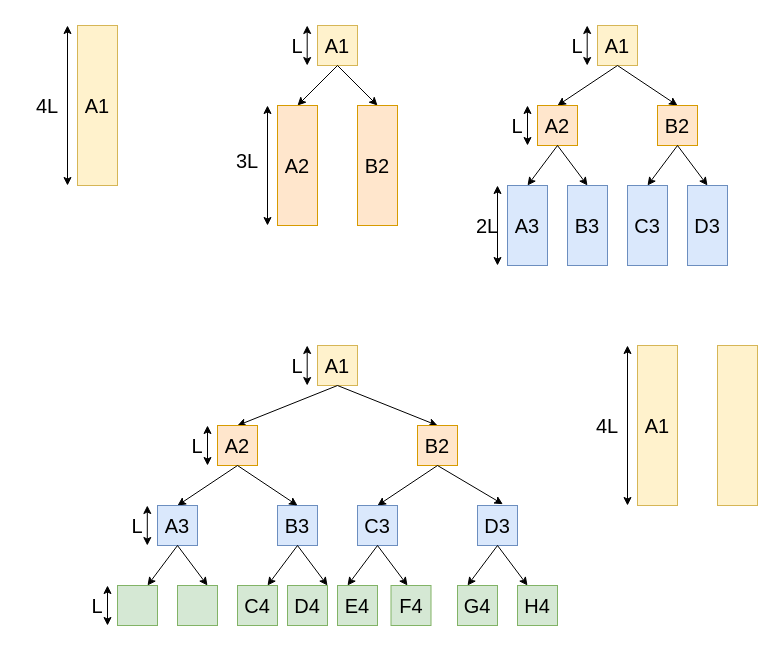
The diagram is 775 pixels wide and 652 high, and some of its shapes have lost their labels. The shapes that lost their labels are listed below. From the top down, each one's centre as x and y in pixels, then its label:
point (737, 425): B1
point (137, 605): A4
point (197, 605): B4
